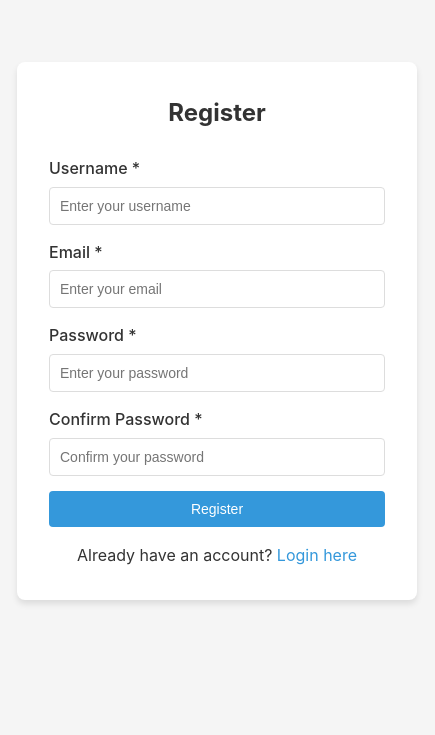
Test: Register Component › validates password confirmation match
Type "password123" into the password field labelled "Password *" at (217,373), box left=49, top=354, right=385, bottom=392
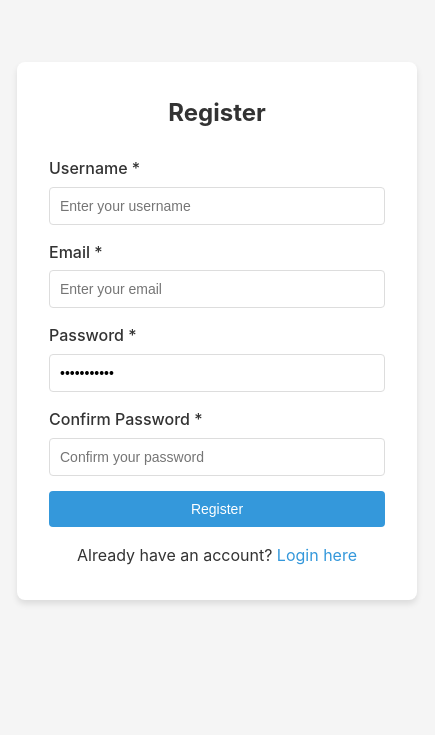
Type "different123" into the password field labelled "Confirm Password *" at (217,457), box left=49, top=438, right=385, bottom=476
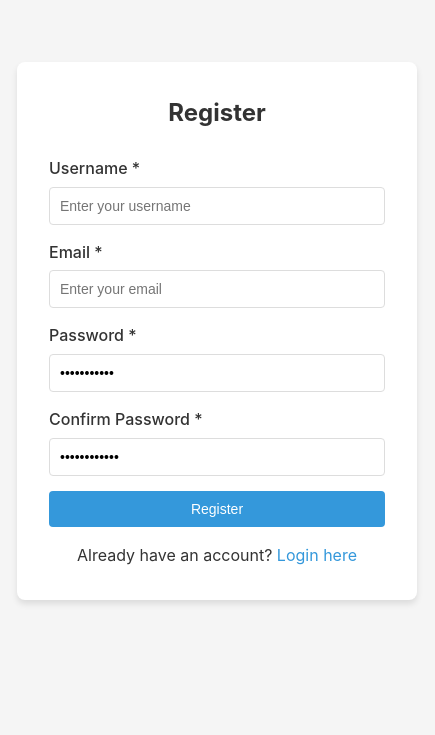
Click the button "Register" at (217,509), box left=49, top=491, right=385, bottom=527
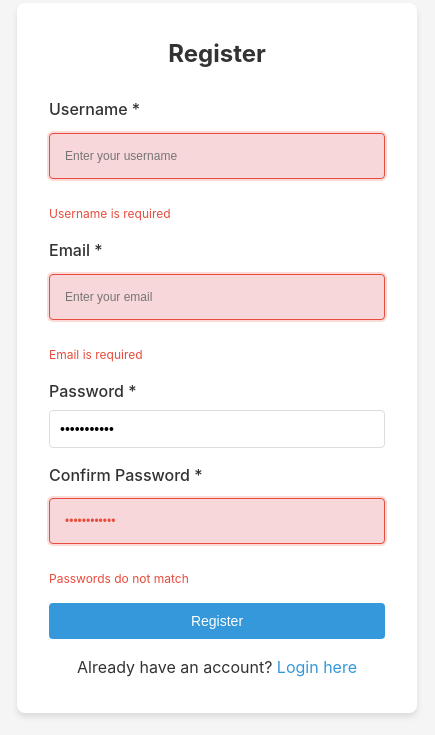
Result: the text "Passwords do not match" is shown at left=49, top=571, right=189, bottom=586
